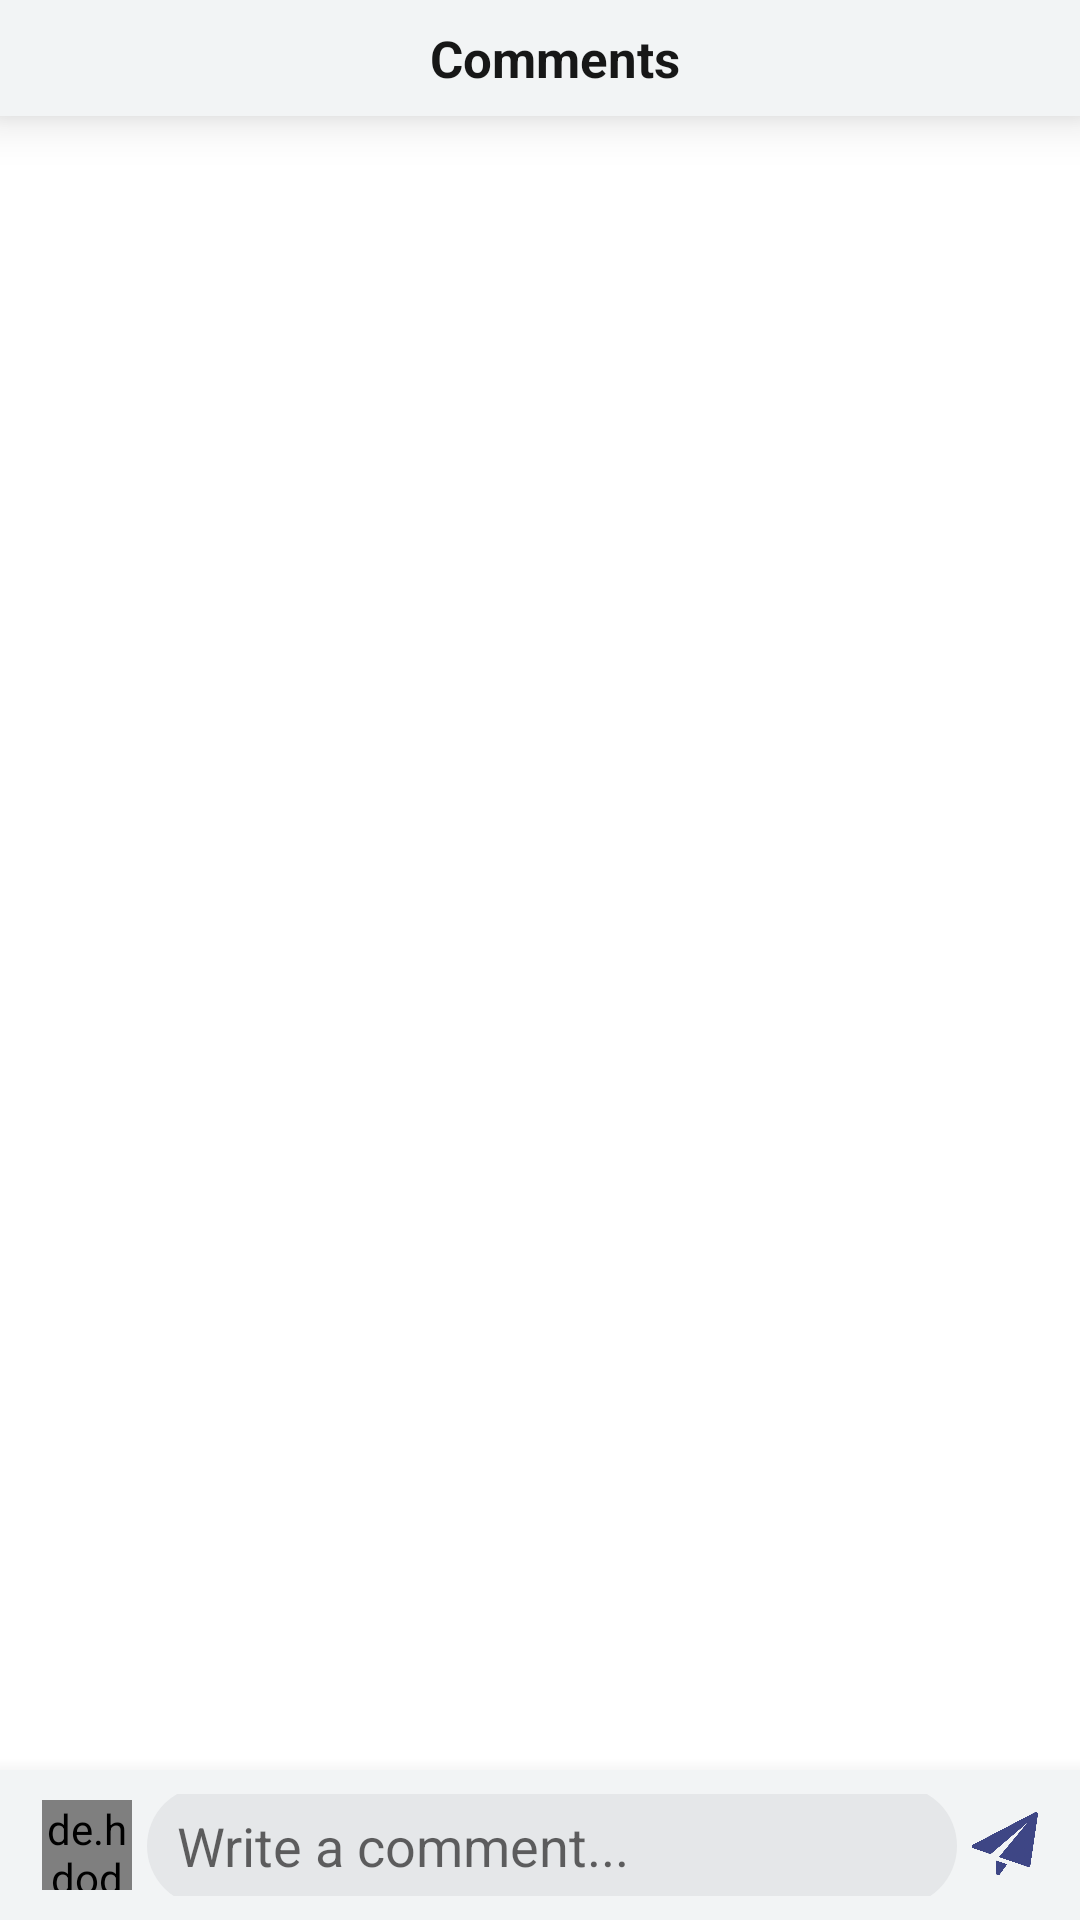

Named icons in this screenshot (1080 × 1920) and their centers, [x,y]:
send: [1005,1843]
